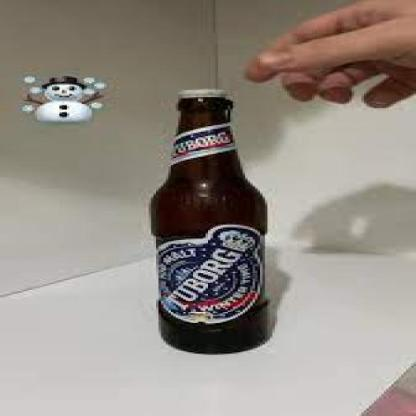Can: (150, 90, 269, 354)
